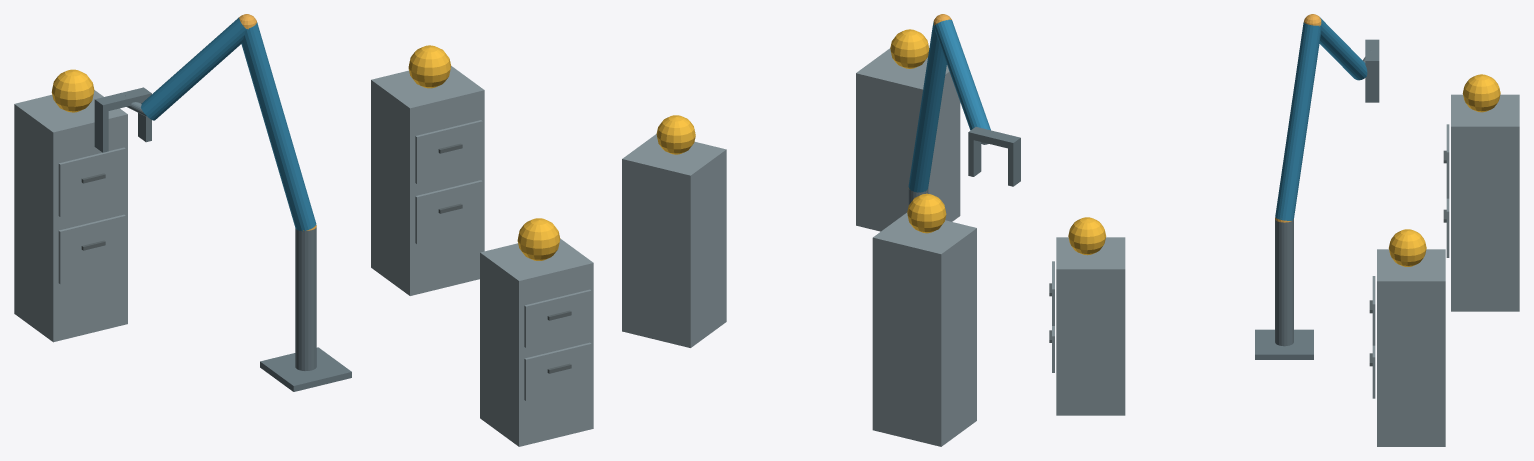
3 renders of one model, left to right at view 1: azimuth 30°, elevation 25°; view 2: azimuth 150°, elevation 25°; view 3: azimuth 270°, elevation 25°, orthographic. The views are drawn at different scales.
Parts seen in each view (by area): view 1: cabinet_3 body, cabinet_2 body, cabinet_1 body, moving link 1, cabinet_3 drawer front, cabinet_3 drawer front.001, cabinet_2 drawer front.001, cabinet_2 drawer front, fixed post, cabinet_1 drawer front.001, cabinet_1 drawer front, moving link 2 (+6 smaller); view 2: cabinet_3 body, cabinet_2 body, cabinet_1 body, moving link 1, moving link 2, ball ball_3, released ball_2, released ball_1, gripper bridge, gripper finger 1, gripper finger -1; view 3: cabinet_3 body, cabinet_2 body, cabinet_1 body, moving link 1, fixed post, pedestal, moving link 2, released ball_2, released ball_1, ball ball_3, gripper finger 1.
Boxes of the visible parts, left/top/right/bottom form: cabinet_3 body: left=14, top=90, right=127, bottom=342; cabinet_2 body: left=371, top=66, right=484, bottom=295; cabinet_1 body: left=480, top=238, right=593, bottom=446; moving link 1: left=241, top=22, right=316, bottom=231; cabinet_3 drawer front: left=58, top=214, right=125, bottom=284; cabinet_3 drawer front.001: left=58, top=147, right=125, bottom=216; cabinet_2 drawer front.001: left=415, top=120, right=482, bottom=183; cabinet_2 drawer front: left=415, top=180, right=482, bottom=244; fixed post: left=295, top=227, right=316, bottom=370; cabinet_1 drawer front.001: left=524, top=289, right=591, bottom=347; cabinet_1 drawer front: left=524, top=342, right=591, bottom=400; moving link 2: left=141, top=17, right=246, bottom=120; cabinet_3 body: left=872, top=212, right=976, bottom=446; cabinet_2 body: left=622, top=134, right=726, bottom=347; cabinet_1 body: left=856, top=48, right=960, bottom=231; moving link 1: left=908, top=22, right=946, bottom=192; moving link 2: left=934, top=19, right=990, bottom=130; ball ball_3: left=907, top=193, right=946, bottom=233; released ball_2: left=656, top=115, right=695, bottom=154; released ball_1: left=890, top=29, right=929, bottom=68; gripper bridge: left=968, top=127, right=1020, bottom=149; gripper finger 1: left=968, top=139, right=981, bottom=176; gripper finger -1: left=1008, top=144, right=1020, bottom=186; cabinet_3 body: left=1451, top=94, right=1519, bottom=311; cabinet_2 body: left=1377, top=249, right=1445, bottom=446; cabinet_1 body: left=1056, top=237, right=1125, bottom=415; moving link 1: left=1275, top=22, right=1321, bottom=220; fixed post: left=1275, top=219, right=1293, bottom=346; pedestal: left=1255, top=329, right=1313, bottom=359; moving link 2: left=1319, top=17, right=1367, bottom=80; released ball_2: left=1388, top=229, right=1426, bottom=266; released ball_1: left=1068, top=217, right=1106, bottom=255; ball ball_3: left=1462, top=74, right=1500, bottom=112; gripper finger 1: left=1365, top=67, right=1379, bottom=102.
Size of the model in its own units: 1.67 by 1.46 by 1.98.
